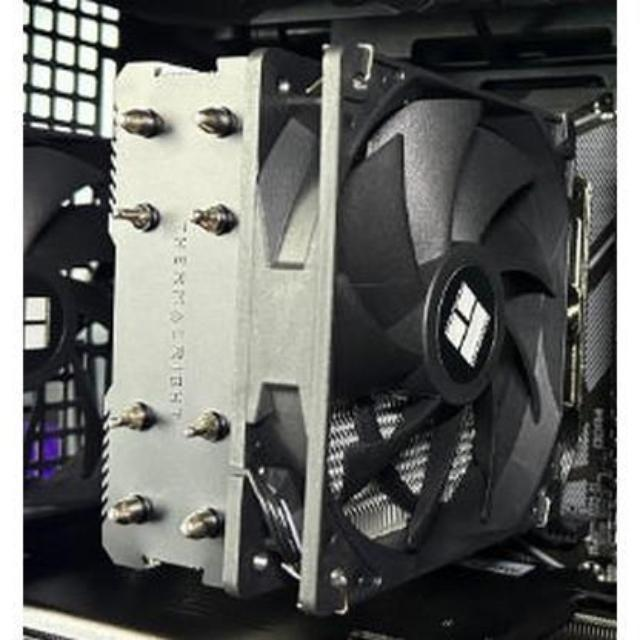CPU_Fan: (106, 57, 577, 585)
